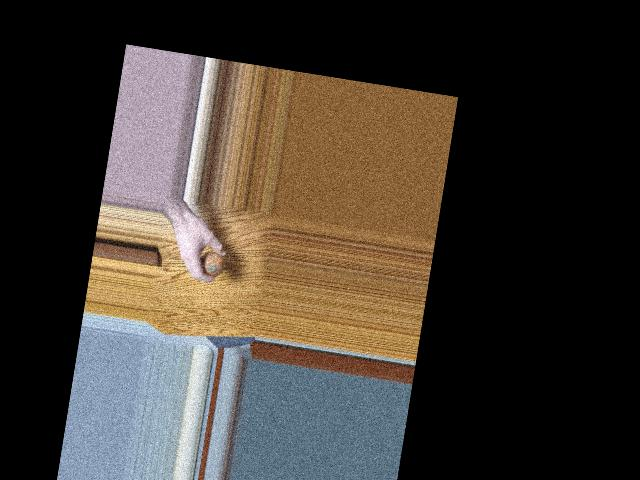onion: (199, 249, 226, 279)
